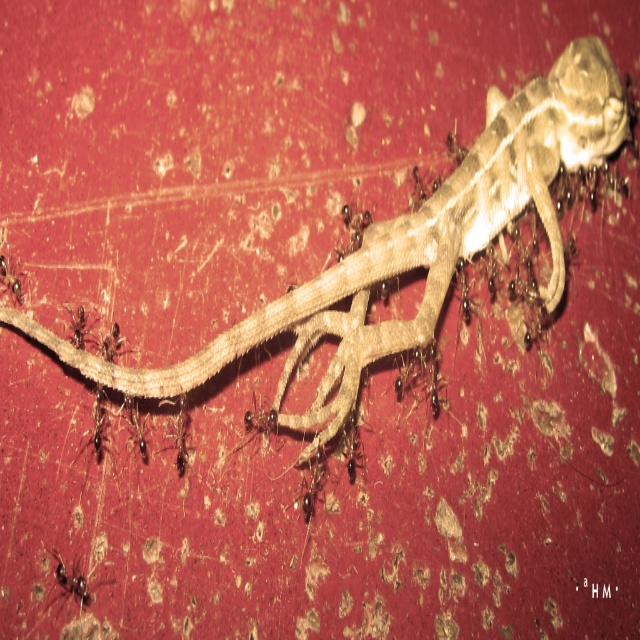Lizard: (18, 62, 622, 531)
